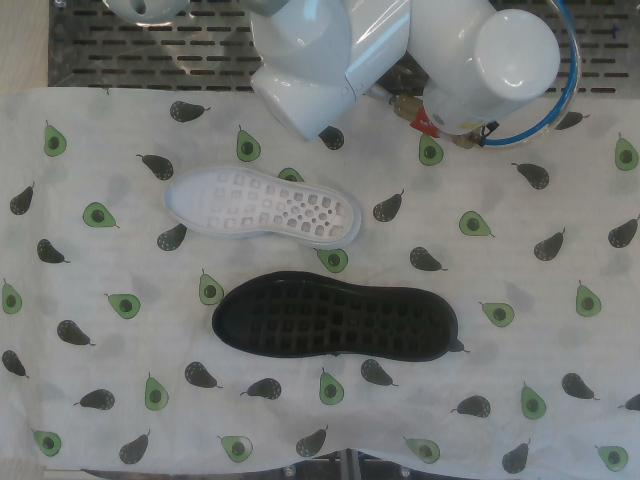shoes: (213, 282, 452, 359), (164, 167, 354, 241)
